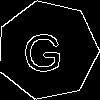G: (22, 25, 63, 72)
